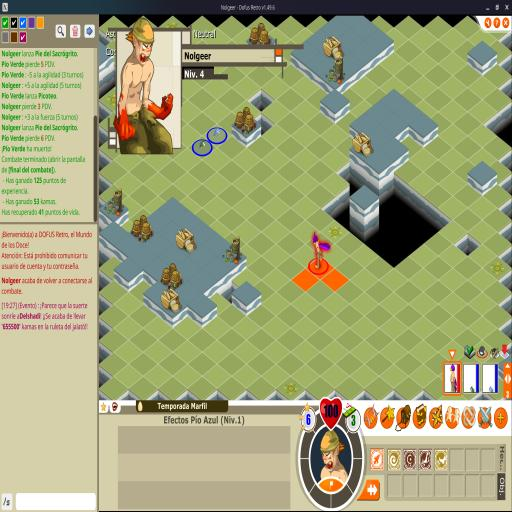Enemigos: (198, 138, 206, 150), (213, 126, 220, 138)
Personaje: (311, 231, 331, 269)
